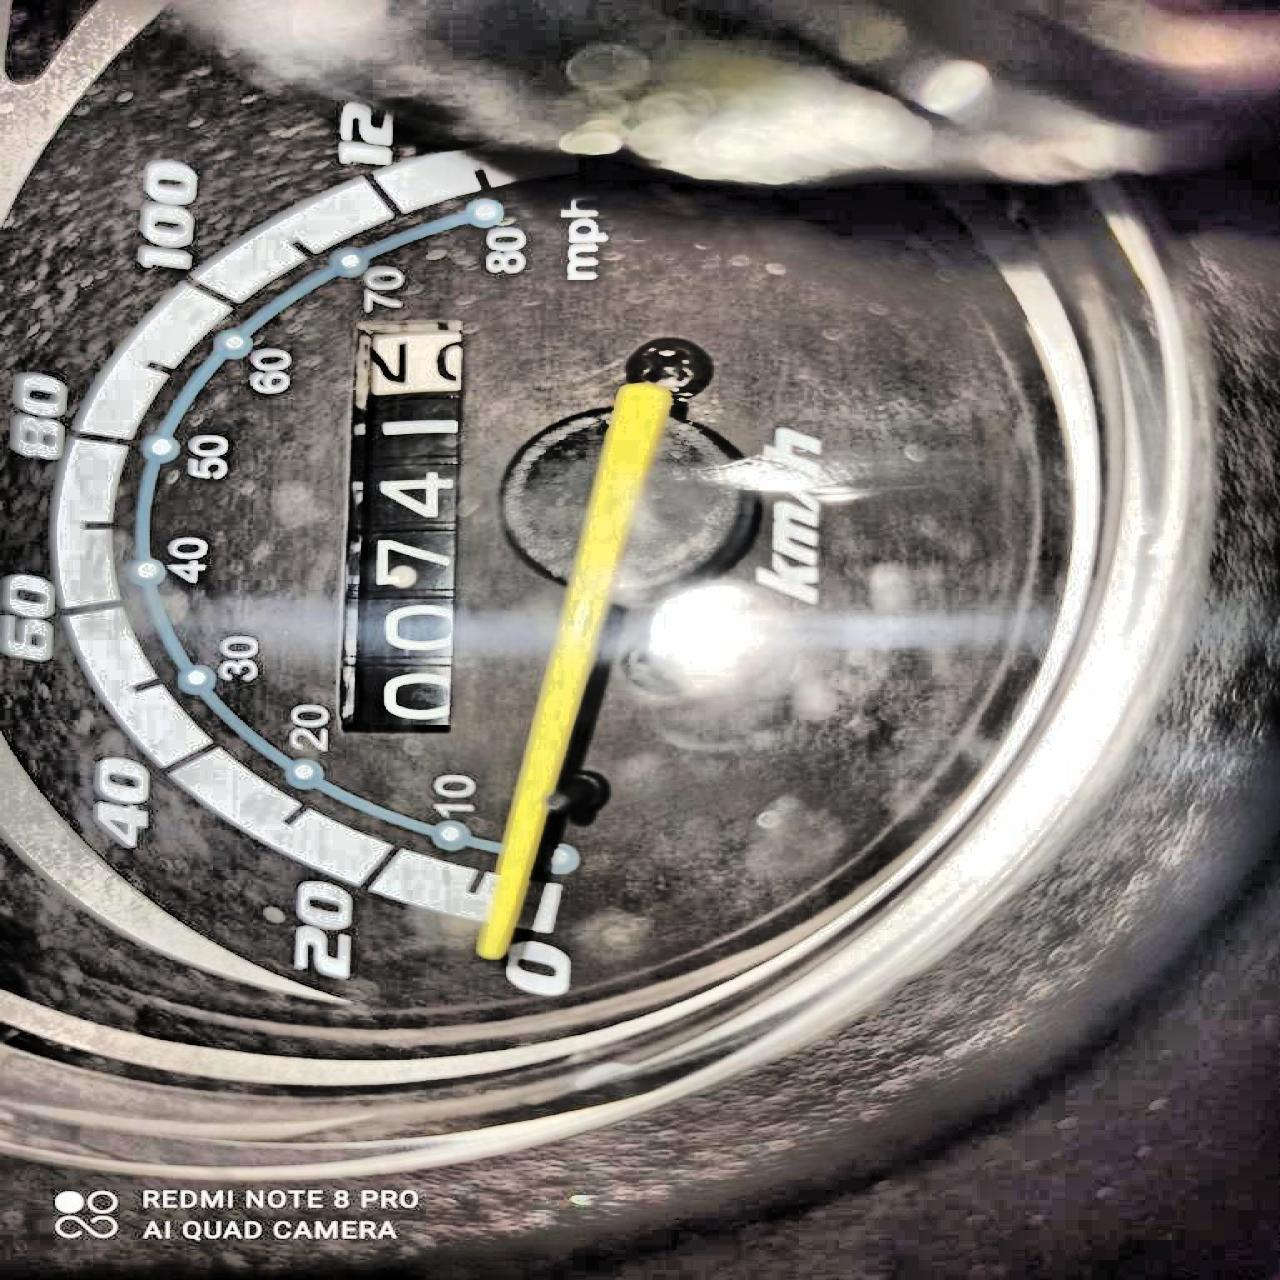0: (380, 600, 456, 654), (380, 668, 452, 722)
1: (375, 410, 462, 444)
2: (365, 339, 413, 384)
4: (373, 465, 461, 523)
7: (368, 535, 456, 588)
odometer: (316, 309, 478, 745)
